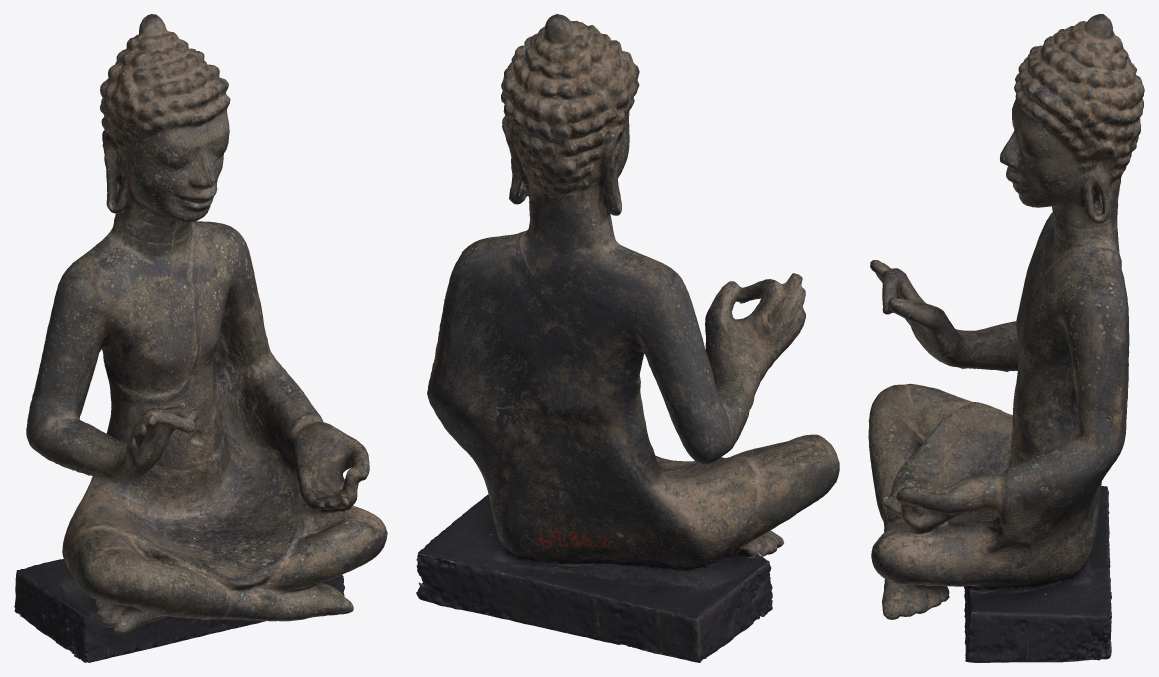
3 views of the same model, side by side, from view 1: azimuth 30°, elevation 25°; view 2: azimuth 150°, elevation 25°; view 3: azimuth 270°, elevation 25° (orthographic). The views are drawn at different scales.
Visible parts, largest first — view 1: Object_2; view 2: Object_2; view 3: Object_2.
Boxes of the visible parts, bbox=[...] form: Object_2: bbox=[14, 14, 387, 662]; Object_2: bbox=[416, 14, 839, 662]; Object_2: bbox=[868, 14, 1144, 662].
Bounding box in the file's own units: 0.5464 × 1 × 0.4287.
Materials: 1 (1 with a texture image).
